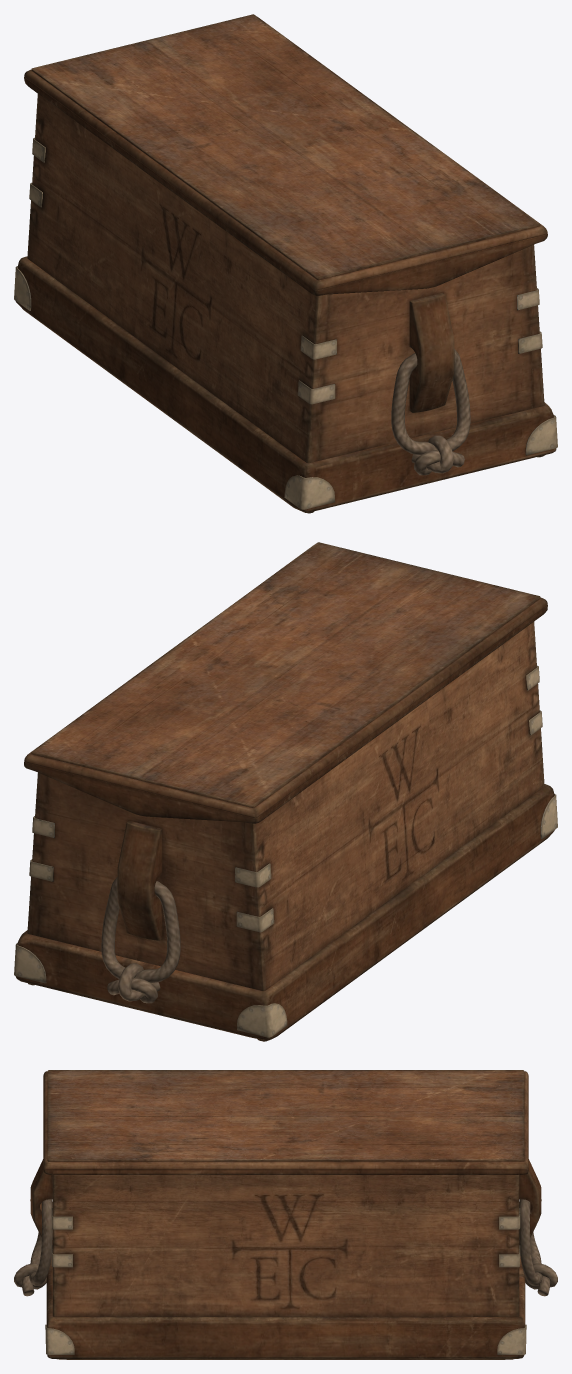
Rendered from produce_crate_wood.glb.
3 renders of one model, top to bottom at view 1: azimuth 30°, elevation 25°; view 2: azimuth 150°, elevation 25°; view 3: azimuth 270°, elevation 25°, orthographic. The views are drawn at different scales.
Parts seen in each view (by area): view 1: market/produce_crate_wood; view 2: market/produce_crate_wood; view 3: market/produce_crate_wood.
Part boxes in pixels (x1,y1,x2,y2): market/produce_crate_wood: (14,14,557,513); market/produce_crate_wood: (14,542,557,1041); market/produce_crate_wood: (14,1070,557,1359).
Bounding box in the file's own units: 0.5291 × 0.464 × 1.17.
1 material, 1 textured.
